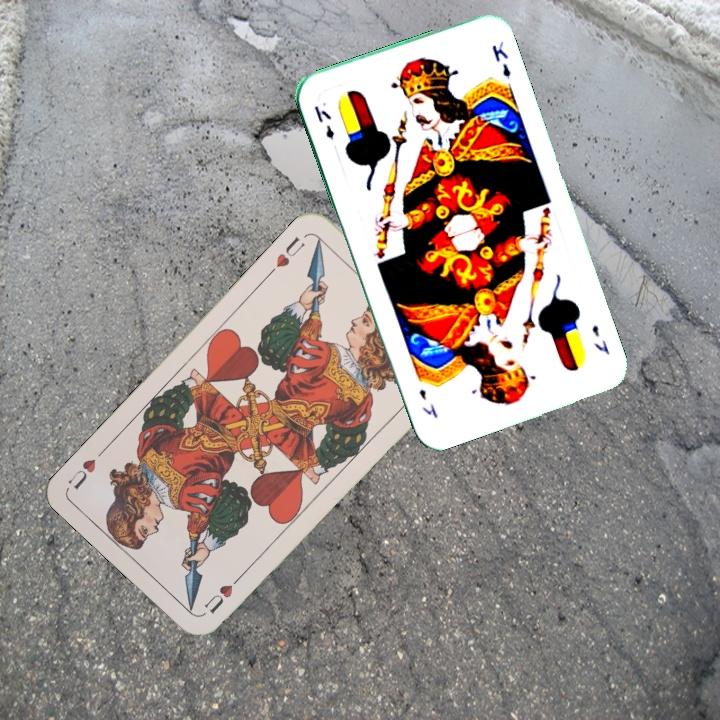EK: (310, 101, 337, 142), (587, 320, 613, 358)
HU: (200, 570, 246, 617), (264, 232, 308, 278)
